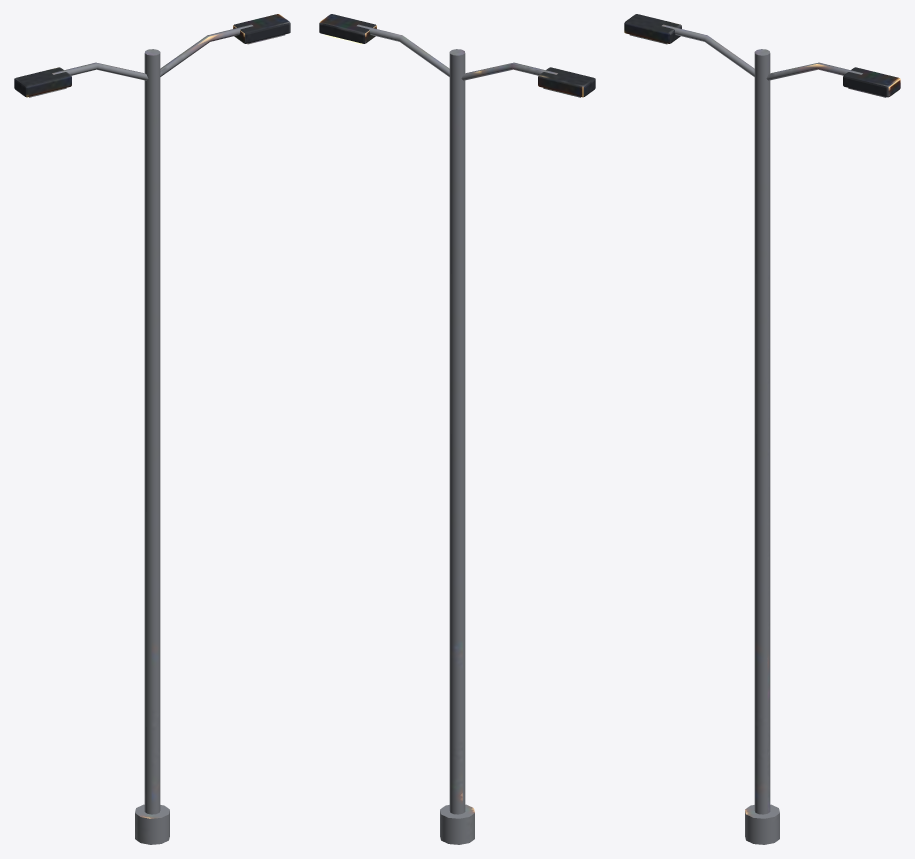
The model's file is sodium_lamp.glb.
3 renders of one model, left to right at view 1: azimuth 30°, elevation 25°; view 2: azimuth 150°, elevation 25°; view 3: azimuth 330°, elevation 25°, orthographic.
Parts seen in each view (by area): view 1: sodium_lamp; view 2: sodium_lamp; view 3: sodium_lamp.
Part boxes in pixels (x1,y1,x2,y2): sodium_lamp: (14,14,290,844); sodium_lamp: (319,14,595,844); sodium_lamp: (624,14,900,844).
Bounding box in the file's own units: 4.25 × 12.04 × 0.5.
1 material, 1 textured.
